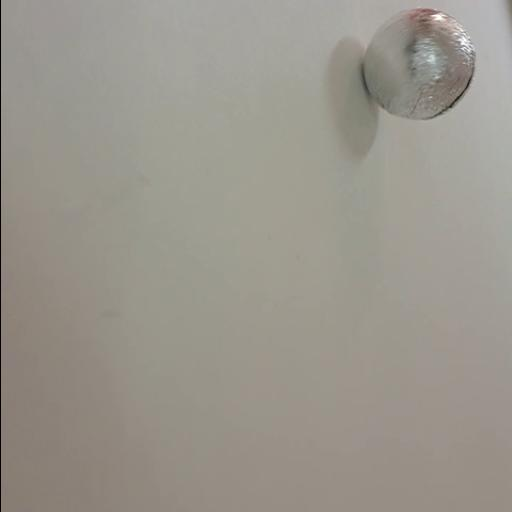alive: (362, 6, 476, 122)
